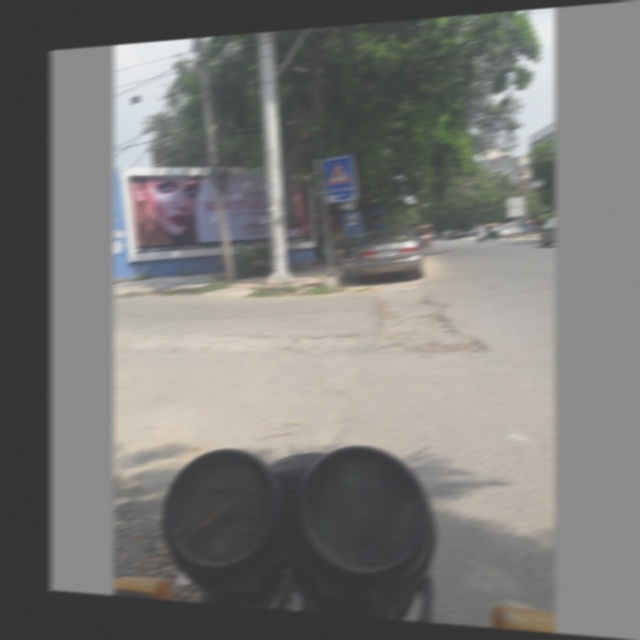Side_Road_Left: (325, 158, 355, 189)
